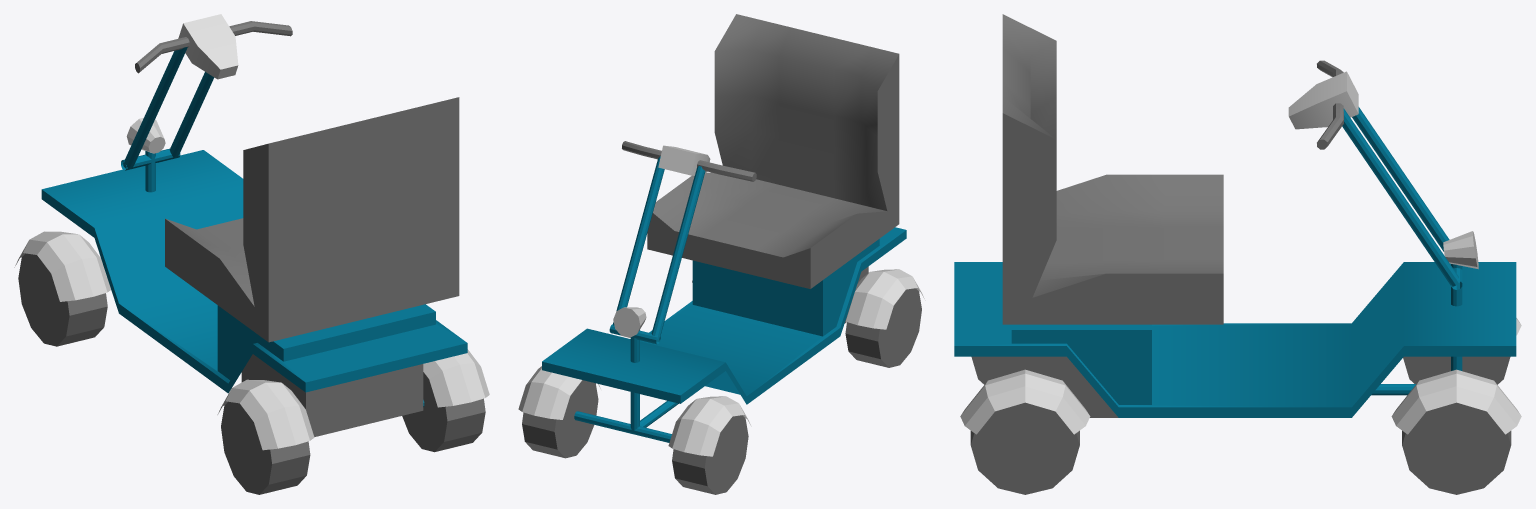
The model's file is scooter3.fbx.
The picture shows the model from 3 angles, left to right: view 1: azimuth 30°, elevation 25°; view 2: azimuth 150°, elevation 25°; view 3: azimuth 270°, elevation 25°; orthographic projection. The views are drawn at different scales.
Visible parts, largest first — view 1: pasted__pasted__pCube1, polySurface1, pCube3, pasted__pCylinder5, pasted__pCylinder1, pasted__pTorus1, pasted__pTorus3, pasted__pCylinder4, pasted__pCube5, pasted__pTorus2, pasted__pCylinder12, pasted__pCylinder6_ncl1_1 (+2 smaller); view 2: pasted__pasted__pCube1, polySurface1, pasted__pCylinder5, pasted__pCylinder1, pasted__pCylinder6, pasted__pTorus3, pasted__pTorus1, pasted__pTorus4, pasted__pCylinder12, pasted__pCylinder11, pasted__pCube5, pasted__pCylinder6_ncl1_1 (+3 smaller); view 3: polySurface1, pasted__pasted__pCube1, pasted__pCylinder4, pasted__pCylinder6, pasted__pTorus4, pasted__pTorus2, pasted__pCube5, pCube3, pasted__pCylinder11, pasted__pCylinder5, pasted__pCylinder12, pasted__pCylinder5_ncl1_1 (+2 smaller).
Part boxes in pixels (bbox=[...]): pasted__pasted__pCube1: bbox=[165, 97, 459, 342]; polySurface1: bbox=[41, 150, 467, 393]; pCube3: bbox=[241, 354, 423, 436]; pasted__pCylinder5: bbox=[18, 253, 107, 346]; pasted__pCylinder1: bbox=[221, 401, 310, 494]; pasted__pTorus1: bbox=[217, 379, 314, 450]; pasted__pTorus3: bbox=[14, 231, 110, 301]; pasted__pCylinder4: bbox=[402, 372, 485, 452]; pasted__pCube5: bbox=[178, 14, 238, 79]; pasted__pTorus2: bbox=[423, 349, 489, 407]; pasted__pCylinder12: bbox=[123, 47, 187, 169]; pasted__pCylinder6_ncl1_1: bbox=[135, 21, 292, 73]; pasted__pasted__pCube1: bbox=[647, 14, 899, 288]; polySurface1: bbox=[542, 227, 906, 404]; pasted__pCylinder5: bbox=[672, 415, 748, 494]; pasted__pCylinder1: bbox=[845, 288, 921, 367]; pasted__pCylinder6: bbox=[522, 380, 598, 458]; pasted__pTorus3: bbox=[668, 396, 751, 456]; pasted__pTorus1: bbox=[845, 269, 925, 329]; pasted__pTorus4: bbox=[518, 366, 600, 419]; pasted__pCylinder12: bbox=[651, 166, 705, 340]; pasted__pCylinder11: bbox=[613, 156, 664, 326]; pasted__pCube5: bbox=[658, 145, 710, 175]; pasted__pCylinder6_ncl1_1: bbox=[622, 141, 756, 181]; polySurface1: bbox=[954, 262, 1516, 417]; pasted__pasted__pCube1: bbox=[1002, 14, 1223, 324]; pasted__pCylinder4: bbox=[970, 402, 1079, 494]; pasted__pCylinder6: bbox=[1402, 402, 1511, 494]; pasted__pTorus4: bbox=[1391, 369, 1521, 434]; pasted__pTorus2: bbox=[960, 369, 1090, 434]; pasted__pCube5: bbox=[1288, 71, 1358, 129]; pCube3: bbox=[1001, 356, 1118, 417]; pasted__pCylinder11: bbox=[1342, 108, 1460, 286]; pasted__pCylinder5: bbox=[1403, 356, 1510, 384]; pasted__pCylinder12: bbox=[1352, 107, 1449, 251]; pasted__pCylinder5_ncl1_1: bbox=[1443, 231, 1478, 269].
Bounding box in the file's own units: 11.93 × 17.72 × 24.23.
